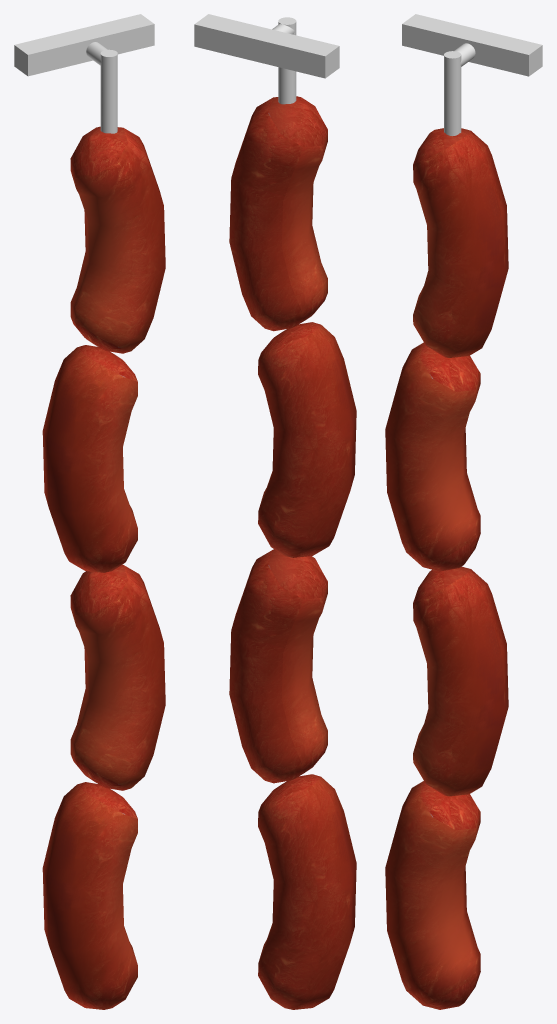
Rendered from Asset_prop_sausages.FBX.
3 views of the same model, side by side, from view 1: azimuth 30°, elevation 25°; view 2: azimuth 150°, elevation 25°; view 3: azimuth 330°, elevation 25° (orthographic). The views are drawn at different scales.
Visible parts, largest first — view 1: Cylinder003, Cylinder001, Cylinder004, Cylinder002, Box001, Cylinder005; view 2: Cylinder003, Cylinder001, Cylinder004, Cylinder002, Box001, Cylinder005; view 3: Cylinder002, Cylinder004, Cylinder003, Cylinder001, Box001, Cylinder005.
Part boxes in pixels (<box>): Cylinder003: <box>42,345,137,572</box>; Cylinder001: <box>42,782,137,1009</box>; Cylinder004: <box>70,126,165,353</box>; Cylinder002: <box>70,564,165,790</box>; Box001: <box>14,14,154,76</box>; Cylinder005: <box>100,49,117,133</box>; Cylinder003: <box>258,322,356,557</box>; Cylinder001: <box>258,774,356,1009</box>; Cylinder004: <box>229,96,327,331</box>; Cylinder002: <box>229,549,327,783</box>; Box001: <box>194,14,339,78</box>; Cylinder005: <box>278,17,296,104</box>; Cylinder002: <box>413,566,508,796</box>; Cylinder004: <box>413,128,508,357</box>; Cylinder003: <box>385,342,480,571</box>; Cylinder001: <box>385,781,480,1009</box>; Box001: <box>402,14,542,76</box>; Cylinder005: <box>444,51,461,135</box>.
Bounding box in the file's own units: 6.39 × 46.04 × 4.4.
